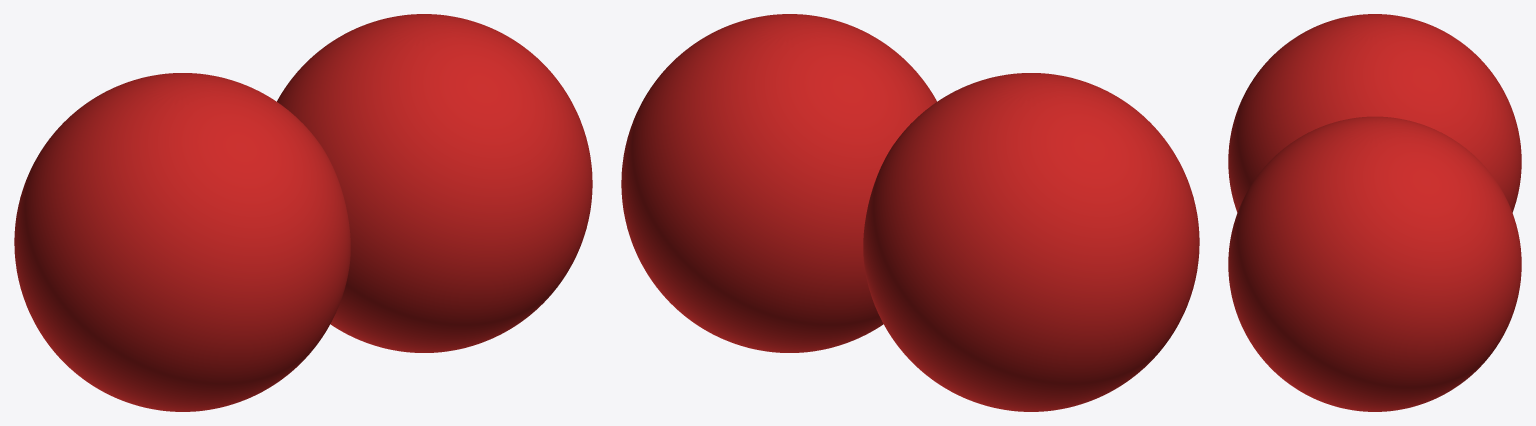
Rendered from famav.glb.
3 views of the same model, side by side, from view 1: azimuth 30°, elevation 25°; view 2: azimuth 150°, elevation 25°; view 3: azimuth 270°, elevation 25° (orthographic). The views are drawn at different scales.
Parts seen in each view (by area): view 1: Esfera; view 2: Esfera; view 3: Esfera.
Part boxes in pixels (x1,y1,x2,y2): Esfera: (14,14,592,411); Esfera: (621,14,1199,411); Esfera: (1228,14,1521,411).
Bounding box in the file's own units: 3.6 × 1.99 × 1.97.
